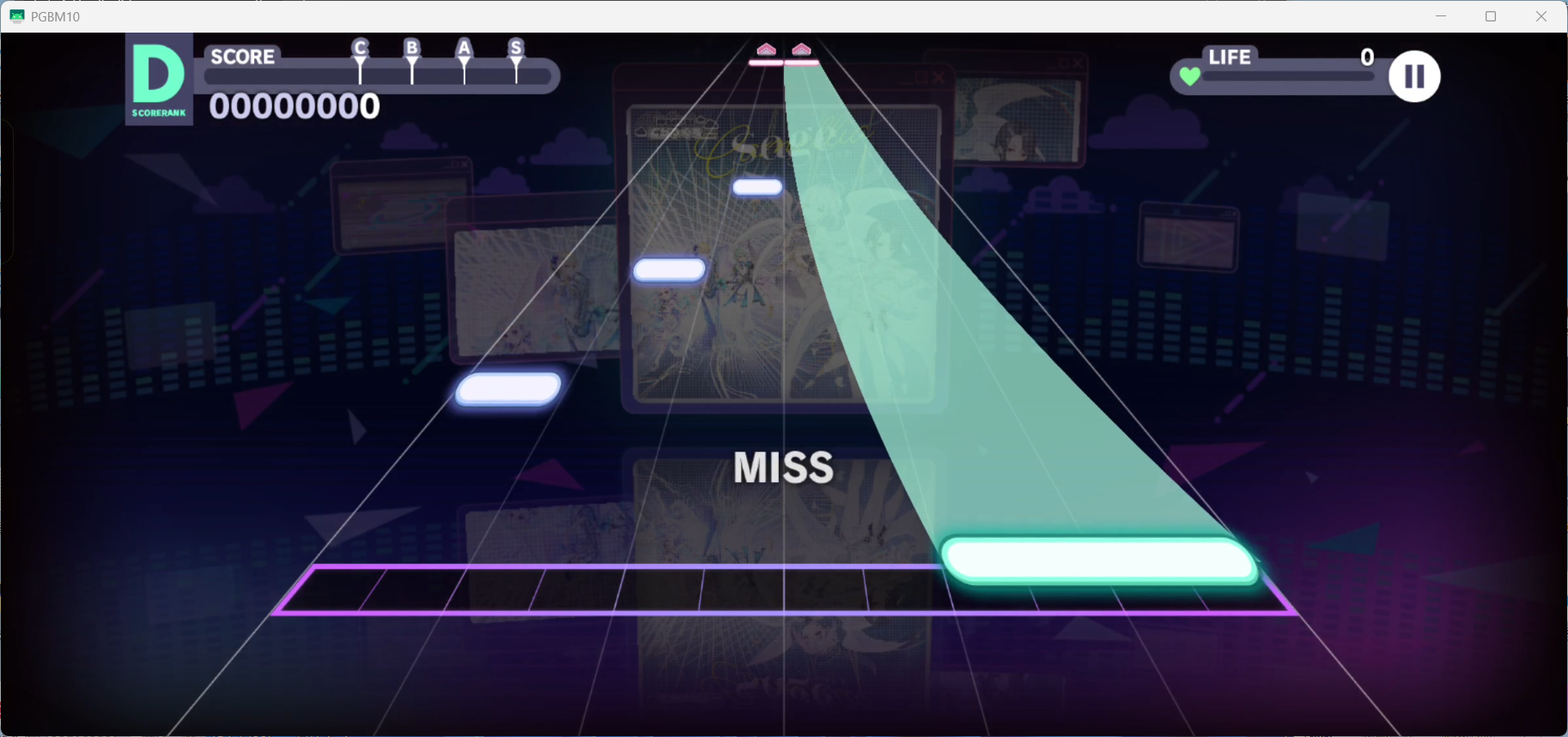flick: (757, 42, 776, 57), (792, 42, 811, 57)
hold: (781, 66, 1232, 535)
tap: (939, 535, 1260, 587), (456, 371, 561, 407), (633, 259, 705, 281), (732, 178, 781, 195), (748, 60, 783, 66), (785, 60, 819, 66)
